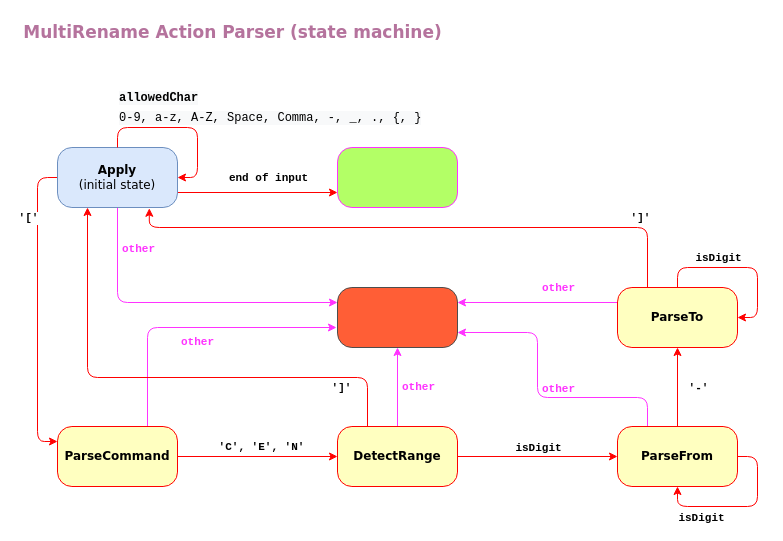
The diagram is 783 pixels wide and 541 high, and some of its shapes have lost their labels. The shapes that lost their labels are listed below. From the top down, each one's box as (x1, y1, x2, y2) in pixels, then its label:
(336, 146, 458, 208): Finished
(336, 286, 458, 348): Error
